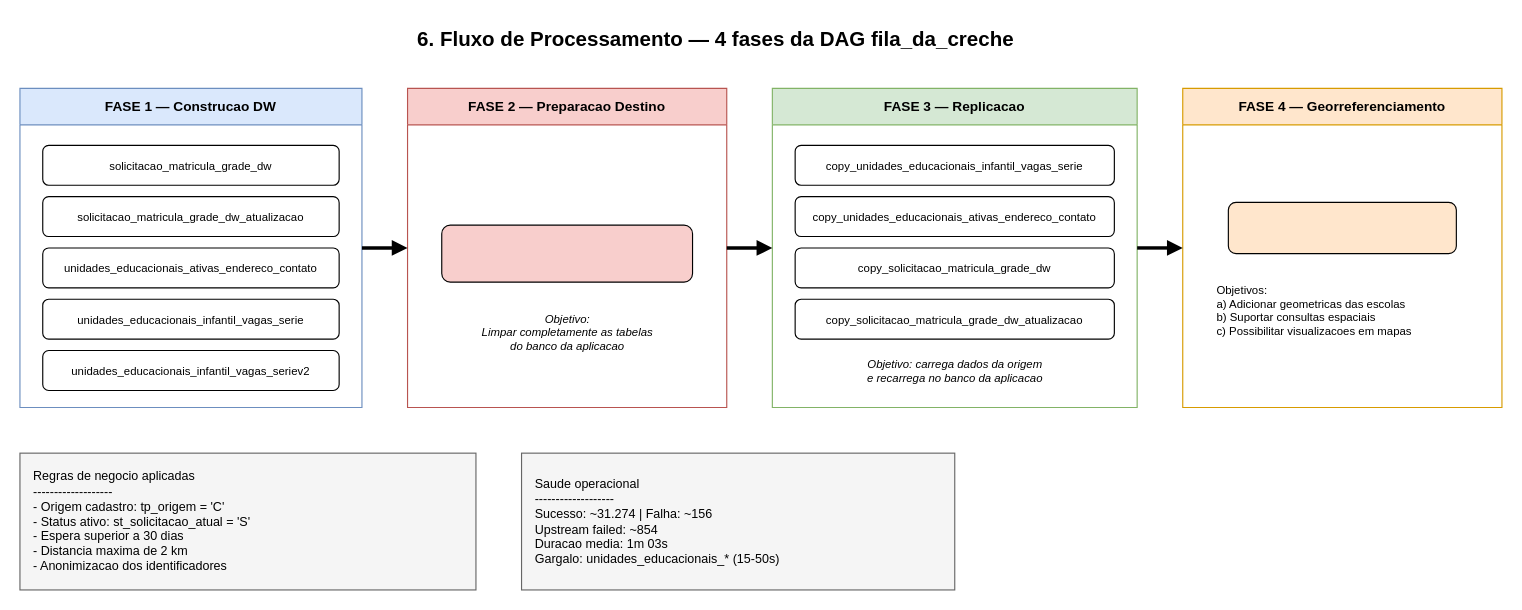
Some shapes in this 1522 by 610 pixel diagram are drawn without their labels. The shapes that lost their labels are listed below. From the top down, each one's centre as x and y in pixels, then its label:
At [1341,227]: "add_geom_to_schools".
At [567,253]: "truncate_fila_da_creche_tables".
